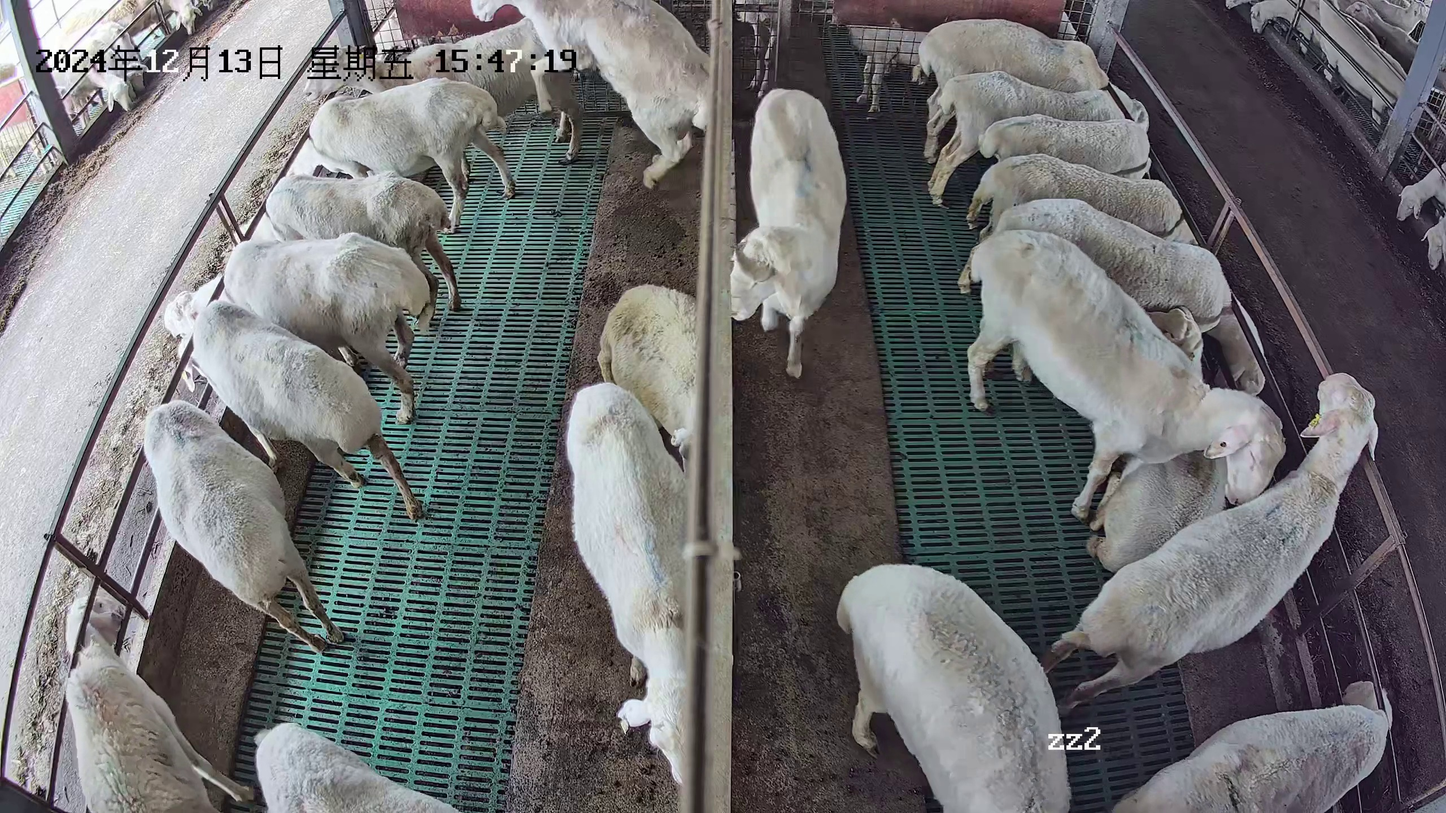Smounting: (300, 1, 714, 189)
mounted: (303, 17, 595, 165)
